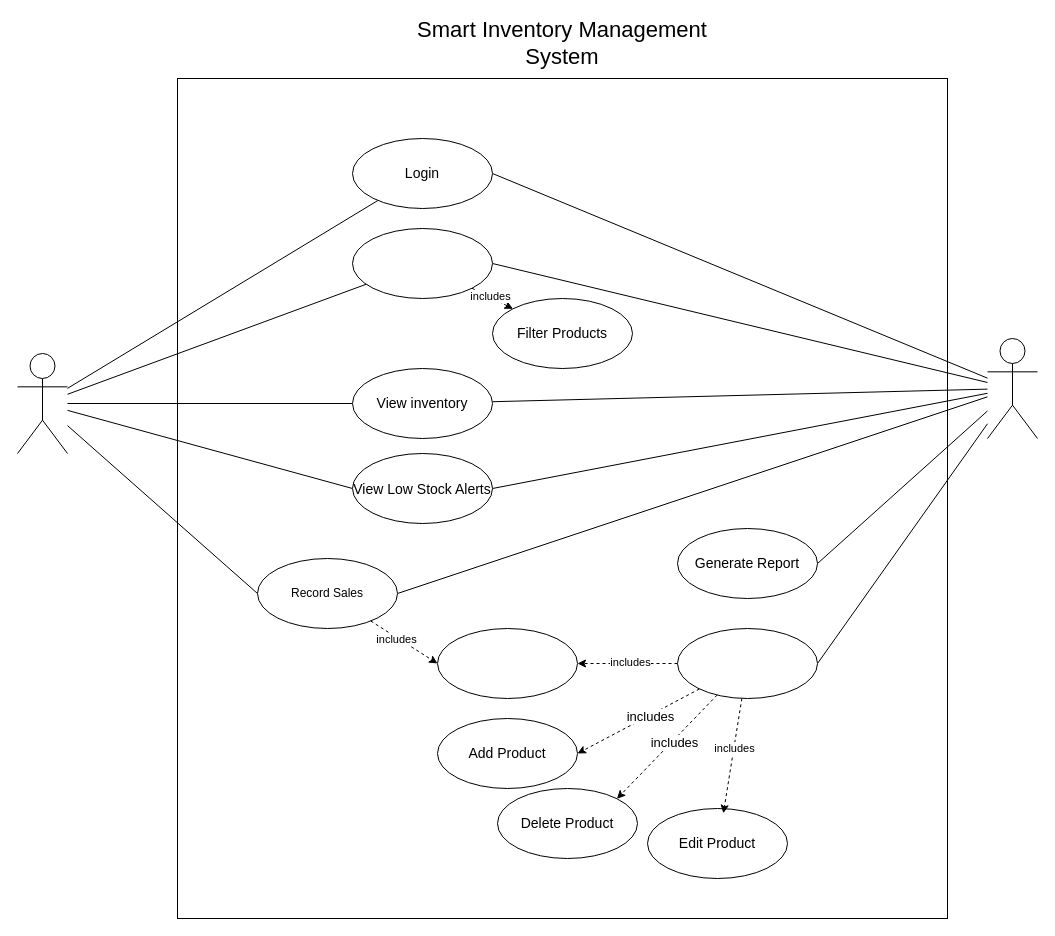
Some shapes in this 1055 by 936 pixel diagram are drawn without their labels. The shapes that lost their labels are listed below. From the top down, each one's box as (x1, y1, x2, y2) in pixels, then its label:
(352, 228, 492, 298): Search Products
(16, 352, 68, 454): Staff
(986, 338, 1038, 438): Admin
(436, 628, 578, 698): Update Inventory
(676, 628, 818, 698): Manage Product
